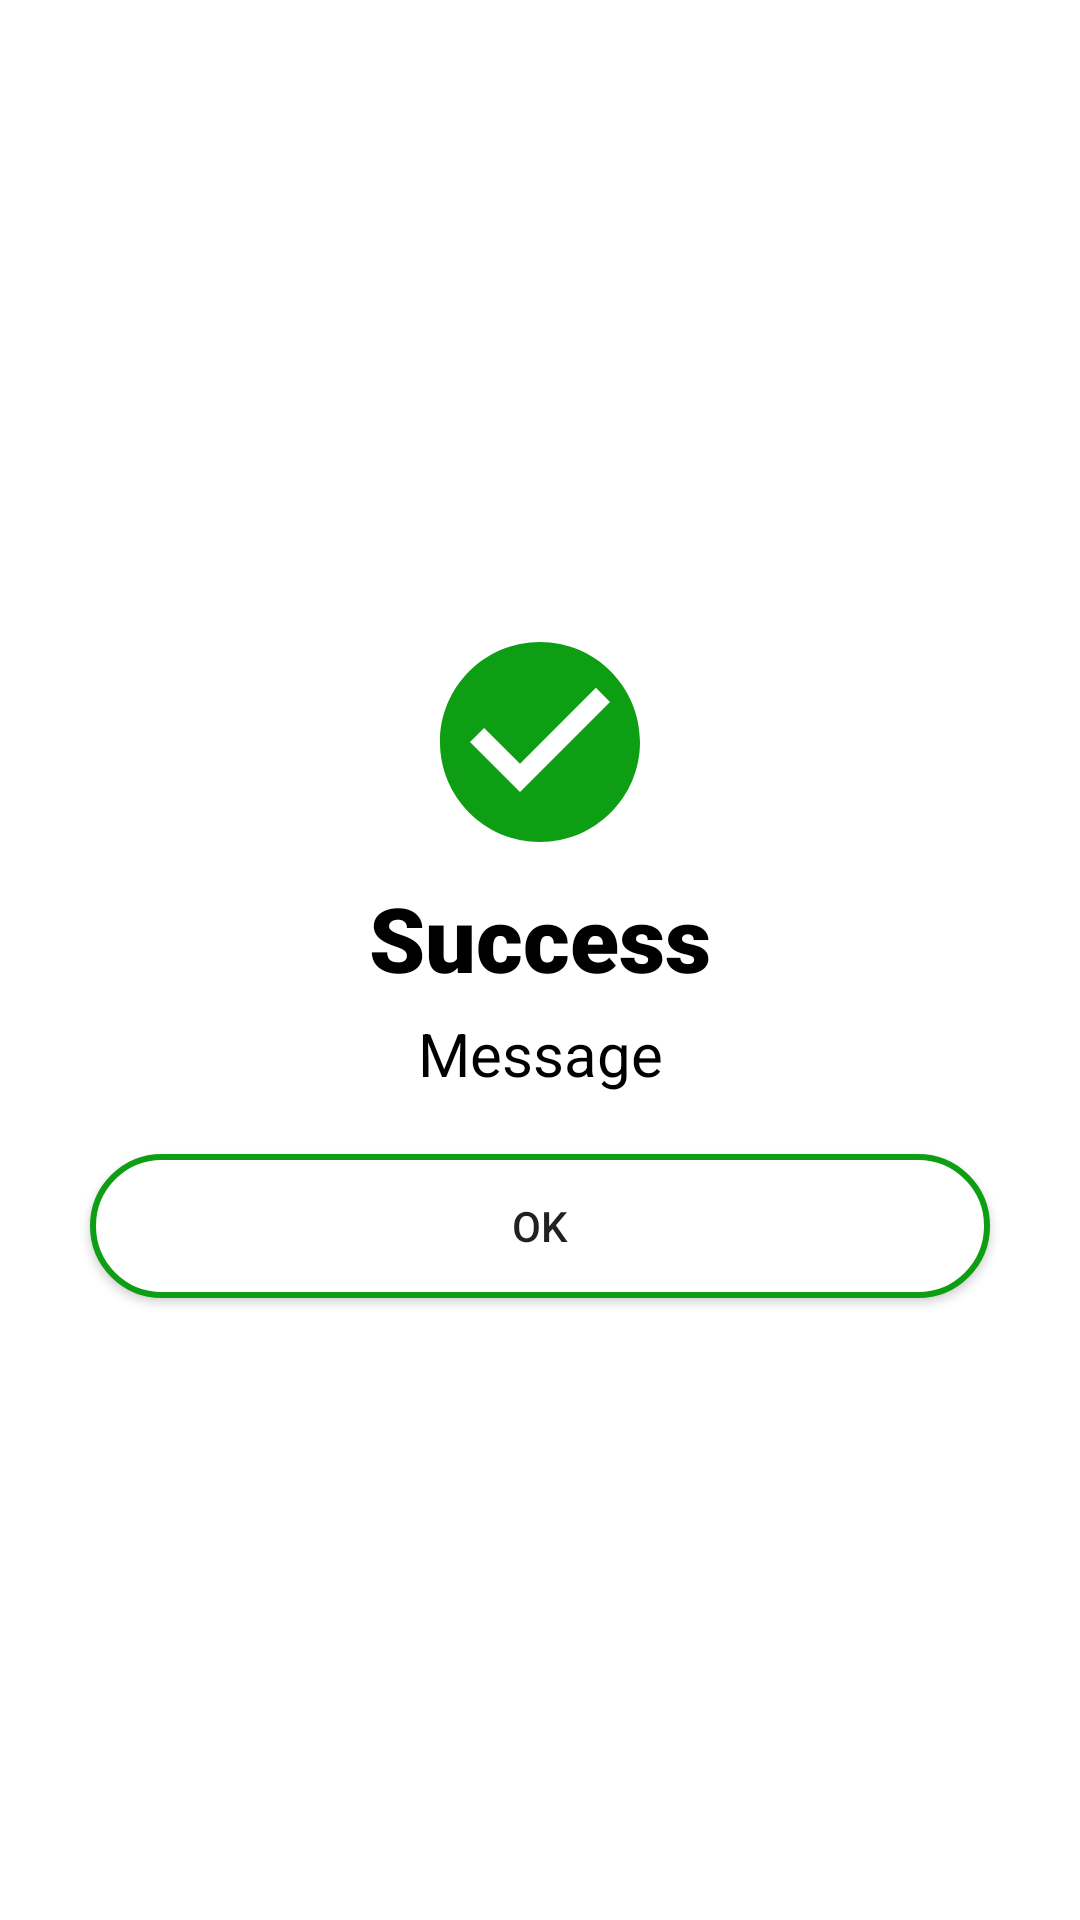

Named icons in this screenshot (1080 x 1920) and their bounding boxes, (x1, y1, x2, y2):
circlecheck: (439, 642, 640, 842)
